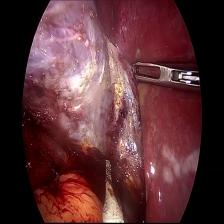Grasper: (129, 56, 205, 101)
Hook: (87, 155, 128, 224)
